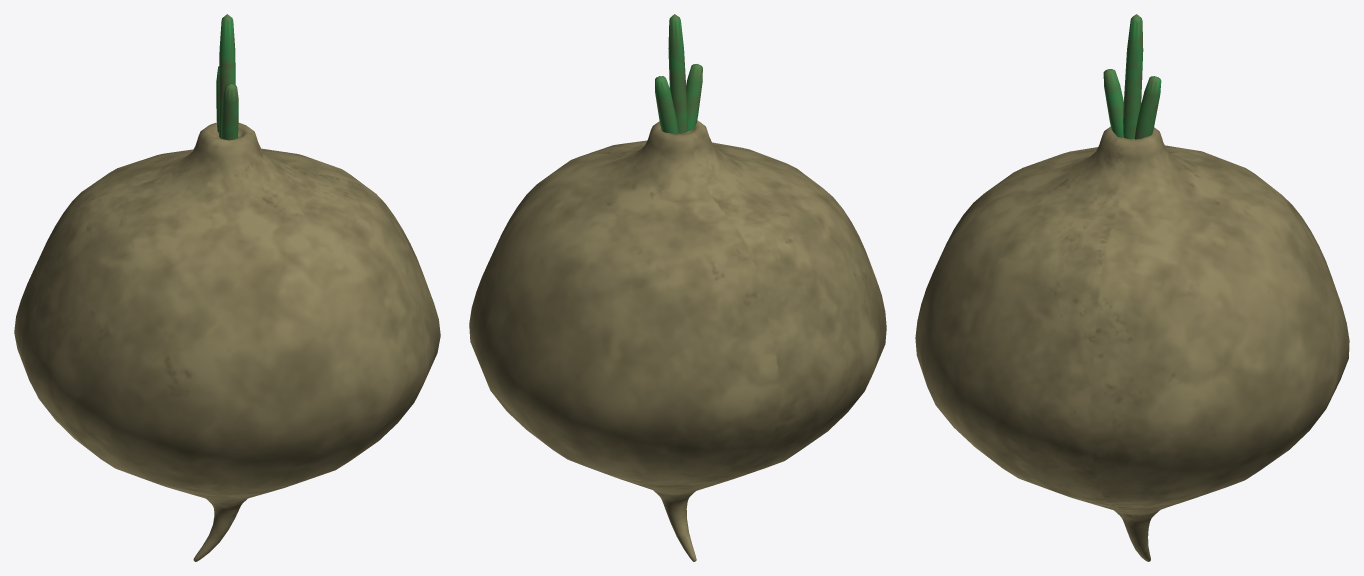
The model's file is Singkamas.glb.
The picture shows the model from 3 angles, left to right: view 1: azimuth 30°, elevation 25°; view 2: azimuth 150°, elevation 25°; view 3: azimuth 270°, elevation 25°; orthographic projection. The views are drawn at different scales.
Parts seen in each view (by area): view 1: pSphere1; view 2: pSphere1; view 3: pSphere1.
Part boxes in pixels (box(x1,y1,x2,y2)): pSphere1: box(14, 14, 440, 561); pSphere1: box(469, 14, 886, 561); pSphere1: box(915, 14, 1349, 561).
Bounding box in the file's own units: 1.77 × 2.53 × 1.78.
1 material, 1 textured.
